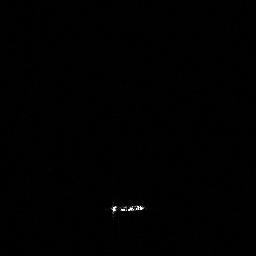ship: (112, 203, 143, 213)
